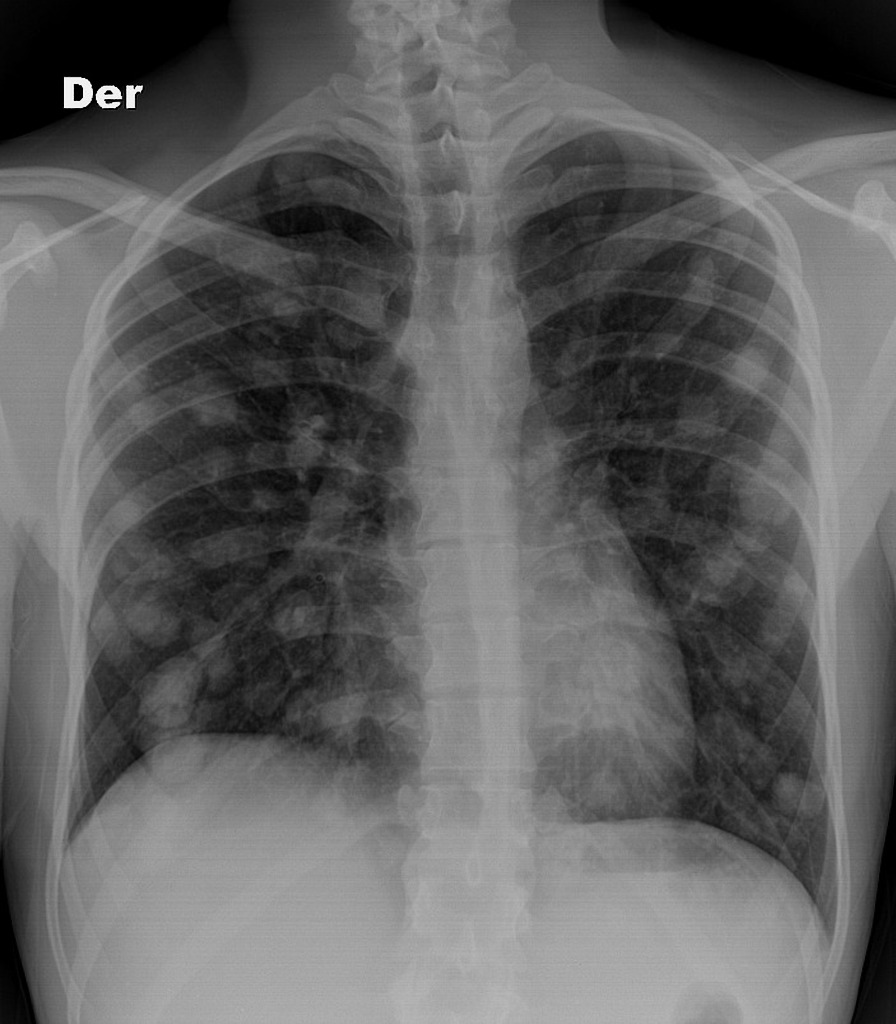cancer: (31, 157, 437, 910), (504, 112, 851, 957)
